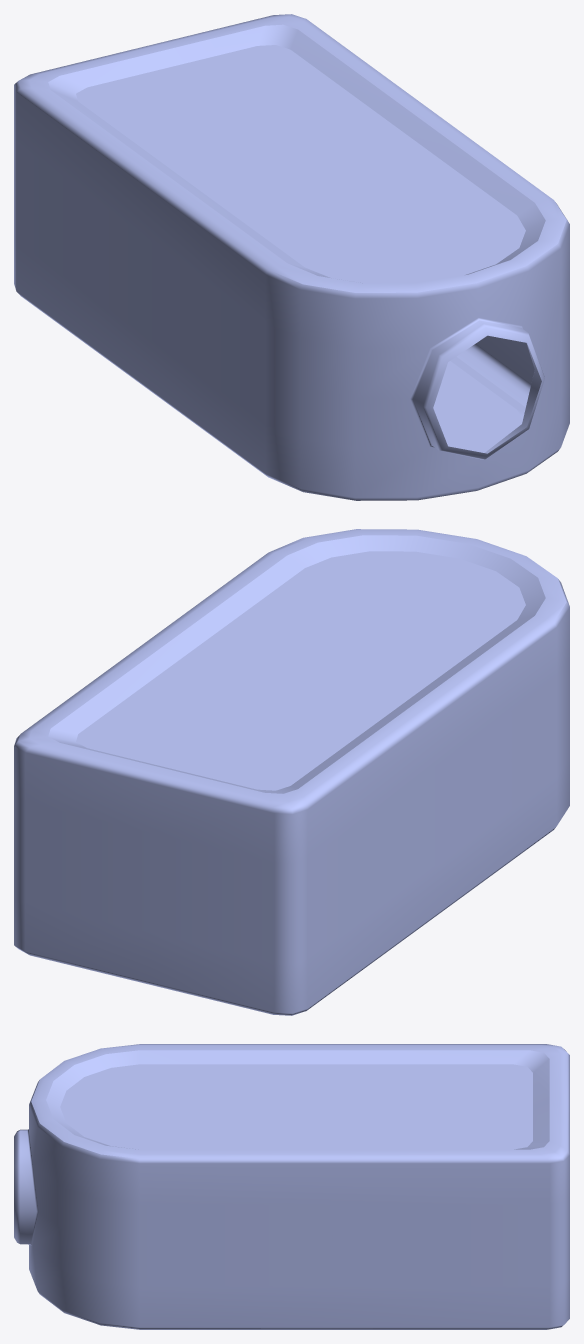
Rendered from MeshSoapBottle_19_0_GeomSubset_0.obj.
The picture shows the model from 3 angles, top to bottom: view 1: azimuth 30°, elevation 25°; view 2: azimuth 150°, elevation 25°; view 3: azimuth 270°, elevation 25°; orthographic projection. The views are drawn at different scales.
Visible parts, largest first — view 1: MeshSoapBottle_19_0_GeomSubset_0; view 2: MeshSoapBottle_19_0_GeomSubset_0; view 3: MeshSoapBottle_19_0_GeomSubset_0.
Boxes of the visible parts, x1,y1,x2,y2 form: MeshSoapBottle_19_0_GeomSubset_0: [14, 14, 569, 500]; MeshSoapBottle_19_0_GeomSubset_0: [14, 529, 569, 1015]; MeshSoapBottle_19_0_GeomSubset_0: [14, 1044, 569, 1329].
Bounding box in the file's own units: 0.0899 × 0.0623 × 0.1805.
